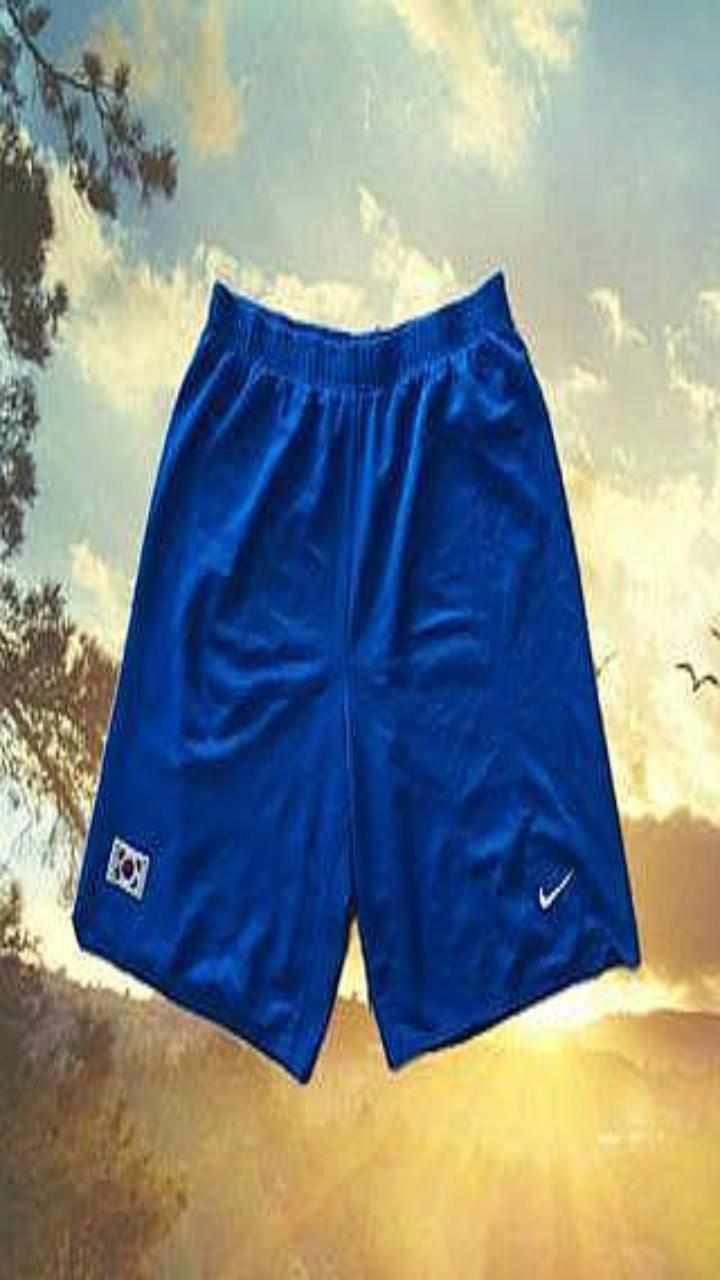Shorts: (73, 271, 639, 1080)
